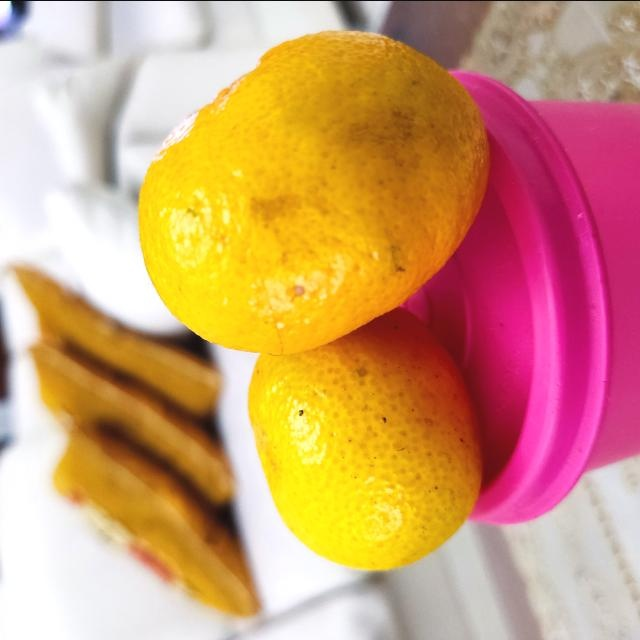agrume: (134, 32, 494, 352), (246, 303, 476, 569)
